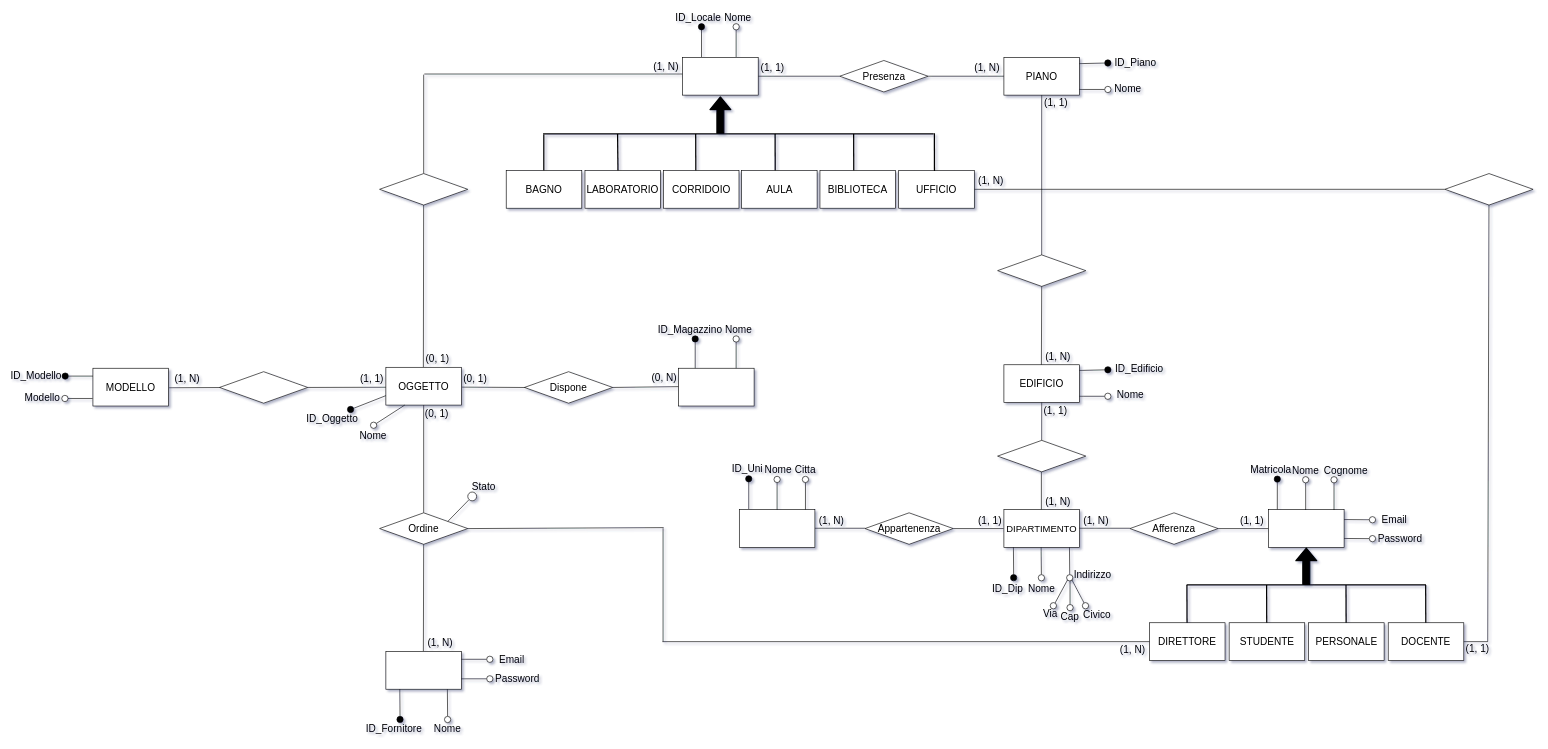
This 1548x749 diagram has some shape labels left out. The centre of each missing label's shape, as x and y in pixels:
"Contiene" belongs at point 423,189.
"Formato" belongs at point 1041,456.
"FORNITORE" belongs at point 423,670.
"LOCALE" belongs at point 720,76.
"MAGAZZINO" belongs at point 716,387.
"Occupa" belongs at point 1488,189.
"PERSONA" belongs at point 1306,528.
"Suddiviso" belongs at point 1041,270.
"Tipo" belongs at point 263,387.
"UNIVERSITA" belongs at point 777,528.
